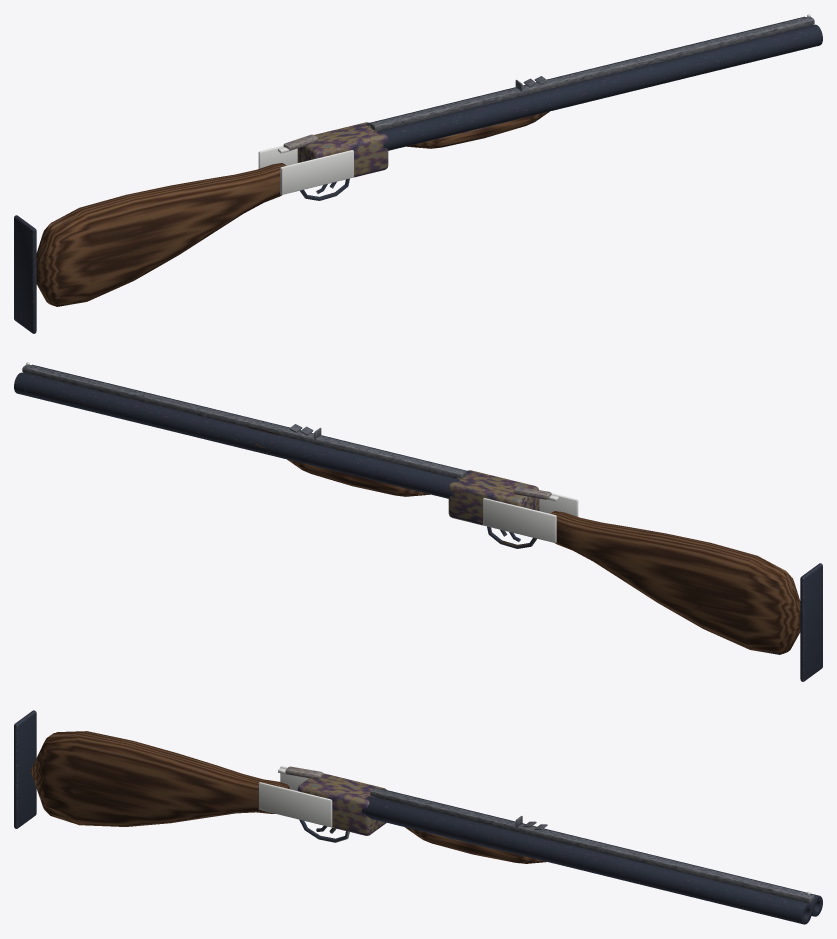
The model's file is nitro.glb.
3 views of the same model, one above another, from view 1: azimuth 30°, elevation 25°; view 2: azimuth 150°, elevation 25°; view 3: azimuth 330°, elevation 25° (orthographic).
Parts seen in each view (by area): view 1: stock, barrel-1, rib, action, stock_plate, sidelock-1, fore_end, sidelock1; view 2: stock, barrel1, rib, action, stock_plate, sidelock1, fore_end, sidelock-1; view 3: stock, barrel-1, rib, action, stock_plate, sidelock-1, fore_end, barrel1.
Part boxes in pixels (x1=…): stock: x1=36, y1=163, x2=286, y2=306; barrel-1: x1=377, y1=24, x2=822, y2=150; rib: x1=370, y1=16, x2=814, y2=130; action: x1=297, y1=122, x2=388, y2=177; stock_plate: x1=14, y1=215, x2=36, y2=333; sidelock-1: x1=280, y1=150, x2=353, y2=194; fore_end: x1=406, y1=111, x2=549, y2=148; sidelock1: x1=258, y1=145, x2=297, y2=168; stock: x1=550, y1=511, x2=800, y2=654; barrel1: x1=14, y1=372, x2=459, y2=498; rib: x1=22, y1=364, x2=466, y2=478; action: x1=448, y1=470, x2=539, y2=525; stock_plate: x1=800, y1=563, x2=822, y2=681; sidelock1: x1=483, y1=498, x2=556, y2=542; fore_end: x1=287, y1=459, x2=430, y2=496; sidelock-1: x1=539, y1=493, x2=578, y2=516; stock: x1=30, y1=731, x2=289, y2=826; barrel-1: x1=362, y1=796, x2=812, y2=924; rib: x1=370, y1=788, x2=814, y2=903; action: x1=297, y1=773, x2=386, y2=835; stock_plate: x1=14, y1=710, x2=36, y2=828; sidelock-1: x1=258, y1=782, x2=332, y2=827; fore_end: x1=404, y1=827, x2=546, y2=863; barrel1: x1=379, y1=788, x2=822, y2=916.
Size of the model in its own units: 1.08 by 0.1627 by 0.055.
1 material, 1 textured.
